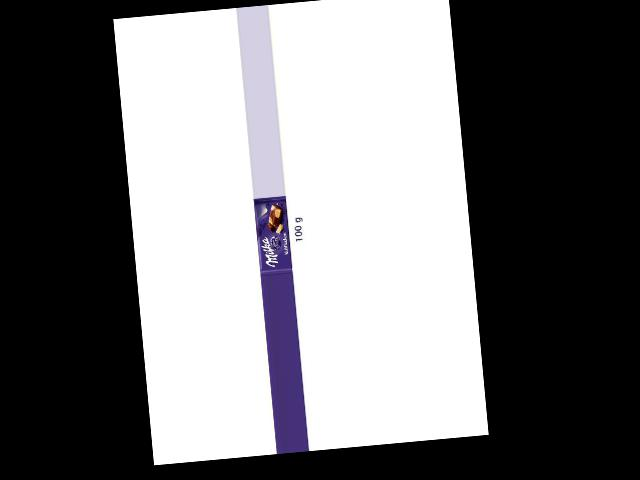chocolate: (252, 194, 297, 275)
